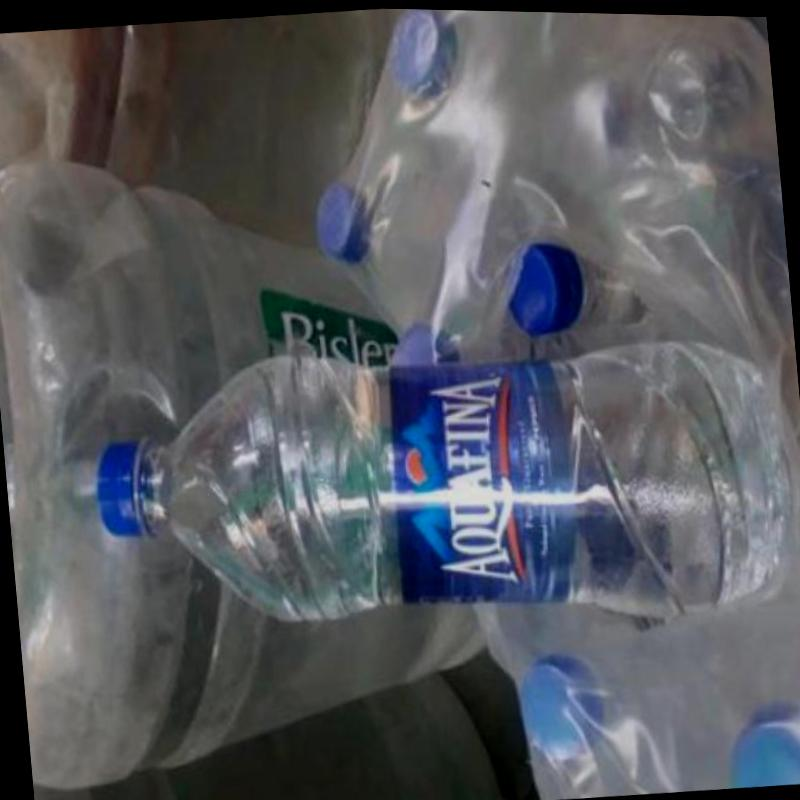botella: (85, 309, 787, 644), (496, 224, 654, 344), (512, 634, 628, 779), (308, 162, 392, 278), (378, 7, 473, 102), (711, 702, 800, 788), (377, 318, 472, 367)
